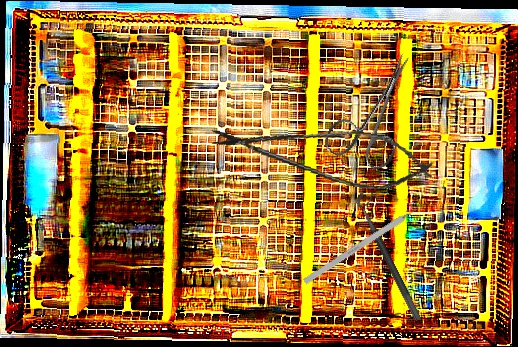Fixation Ring: (353, 188, 432, 322)
Hook Surgical: (302, 200, 429, 285)
Iris Scissors: (320, 39, 436, 178)
Micro Scissor: (205, 111, 440, 198)
